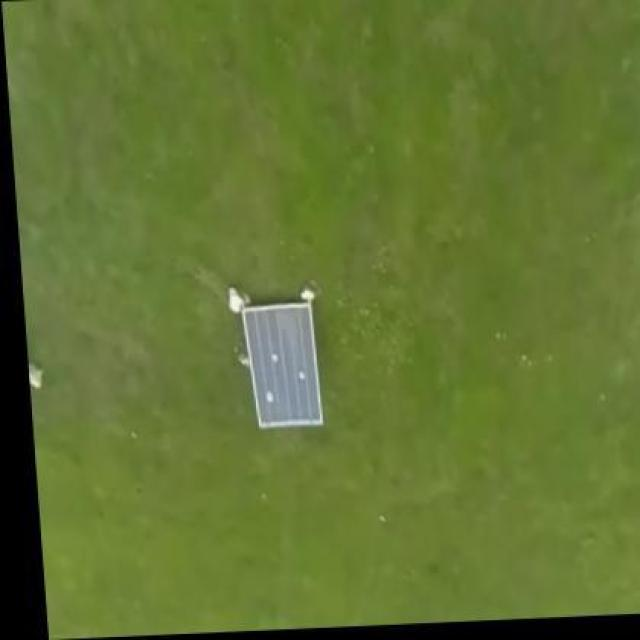soiled: (239, 298, 328, 432)
